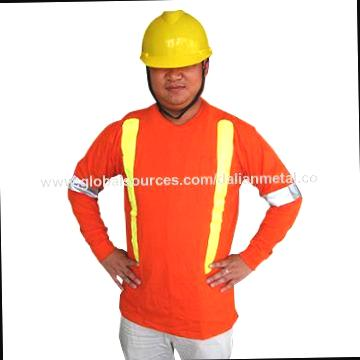helmet: (134, 9, 214, 74)
person: (73, 8, 285, 342)
